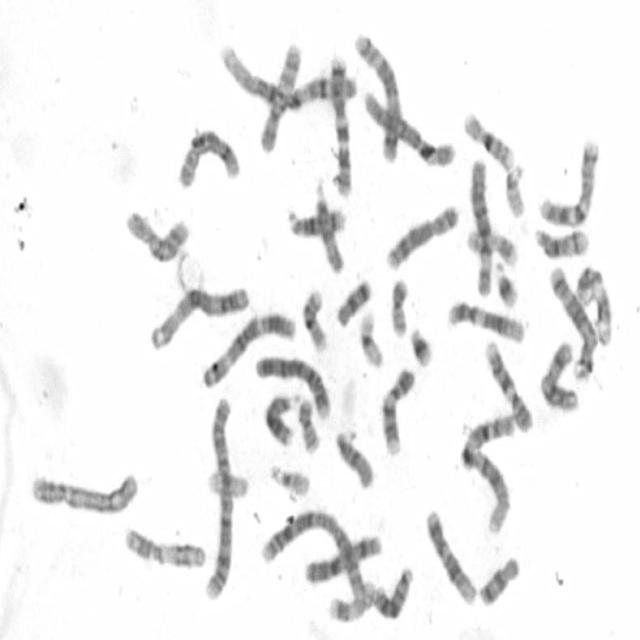A1: (217, 38, 360, 114), (458, 408, 518, 534)
A2: (258, 506, 368, 600), (200, 390, 236, 602)
A3: (200, 308, 298, 390), (148, 278, 252, 354)
B4: (26, 463, 142, 518), (252, 349, 333, 422)
B5: (351, 27, 404, 164), (546, 263, 597, 381)
C10: (256, 34, 304, 154), (121, 203, 192, 266)
C11: (120, 522, 209, 572), (573, 260, 615, 348)
C12: (422, 503, 478, 607), (443, 294, 526, 344)
C6: (360, 86, 457, 170), (466, 153, 494, 300)
C7: (535, 134, 601, 228), (325, 49, 354, 198)
C8: (382, 198, 461, 272), (175, 122, 242, 191)
C9: (481, 334, 535, 433), (378, 362, 417, 458)
D13: (368, 560, 416, 622), (260, 388, 302, 448)
D14: (531, 222, 592, 260), (285, 203, 347, 240)
D15: (312, 175, 346, 277), (332, 426, 376, 491)
E16: (460, 106, 516, 172), (298, 284, 331, 354)
E17: (324, 576, 376, 624), (463, 224, 520, 267)
E18: (476, 551, 521, 608), (333, 274, 372, 328)
F19: (356, 306, 386, 369), (203, 466, 250, 499)
F20: (294, 393, 322, 456), (387, 273, 410, 339)
G21: (492, 256, 520, 310), (406, 322, 435, 368)
G22: (267, 459, 311, 497), (502, 158, 528, 221)
X: (300, 529, 383, 585), (537, 335, 581, 415)
